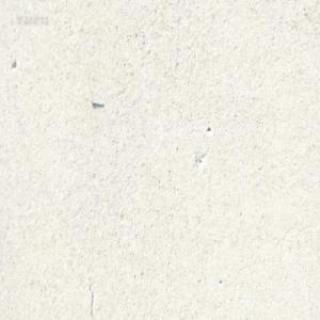Nailtrack_idkeyframe: (90, 96, 104, 105)
